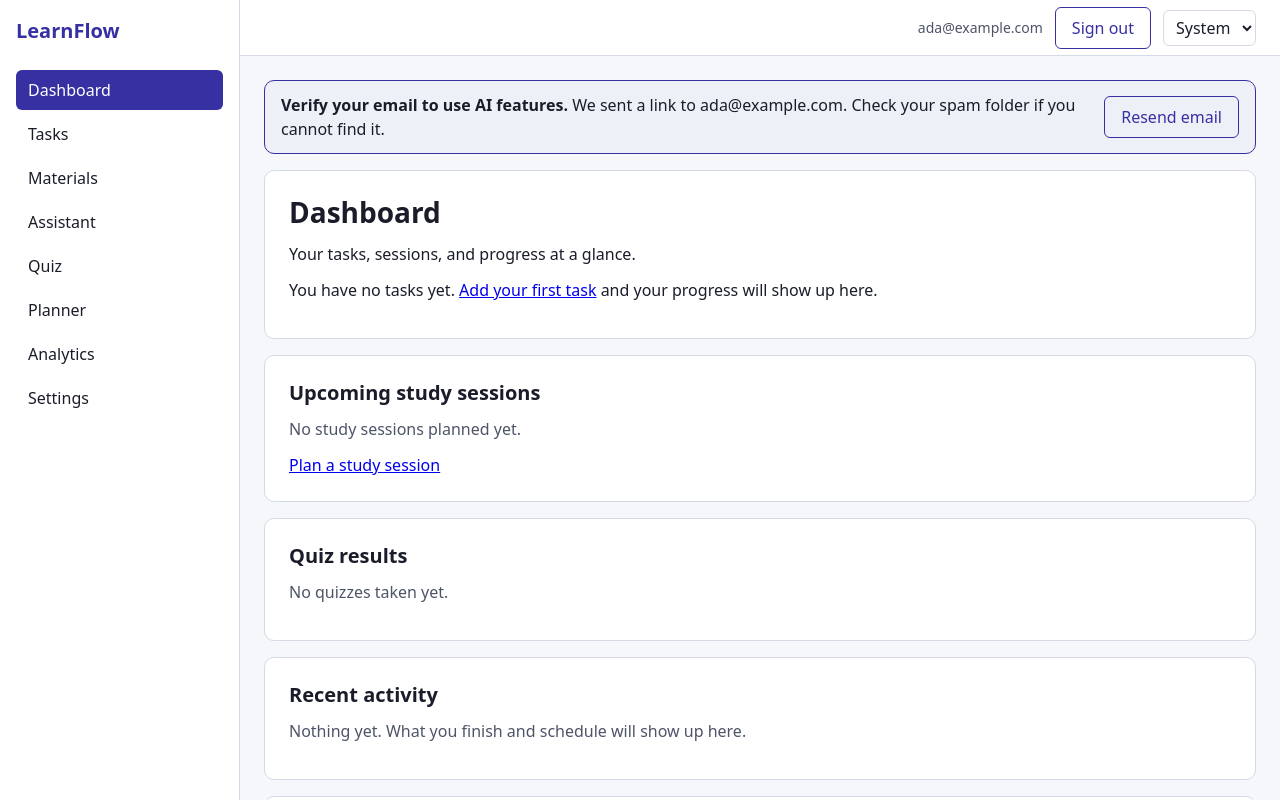
verification banner › tells the user how long to wait when rate limited
Click the button "Resend email": coordinates (1172, 117) [1104,96,1239,138]
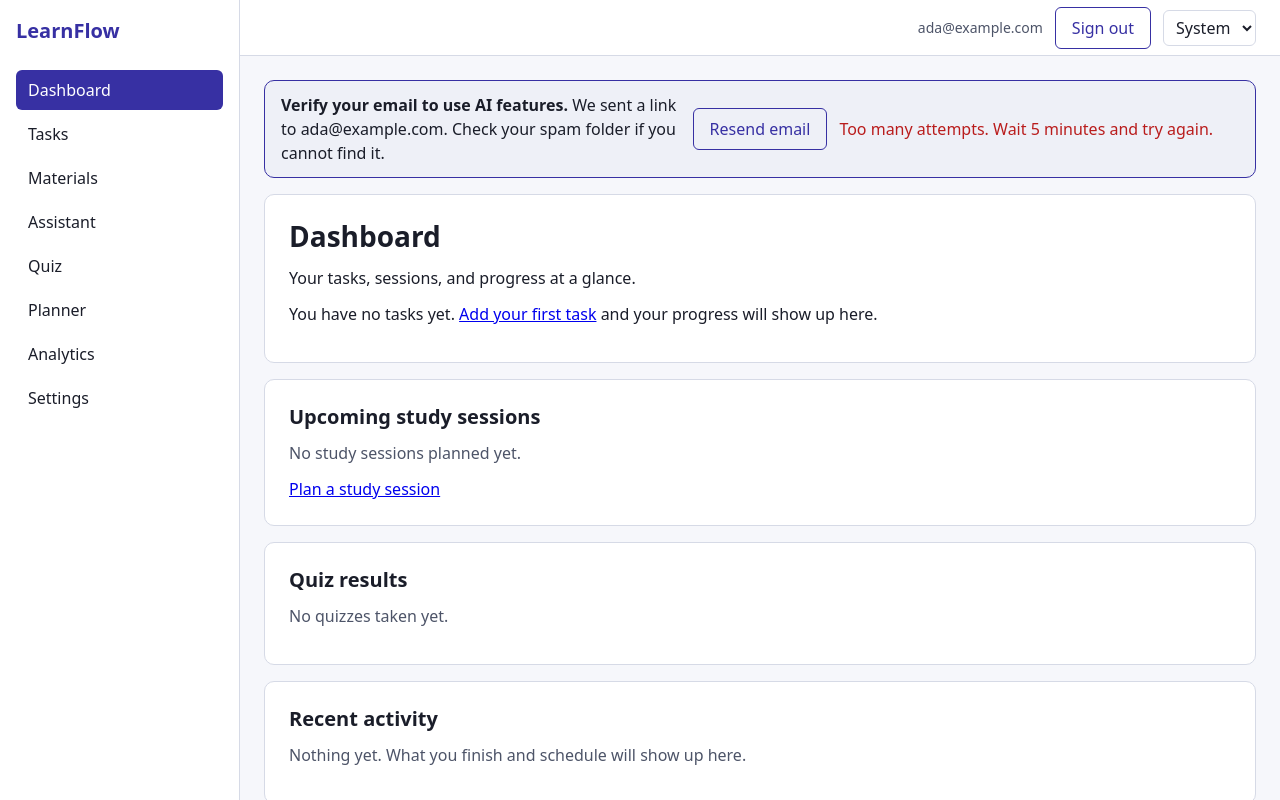
Check: the message shows "Wait 5 minutes and try again.", box [839,118,1213,140]
